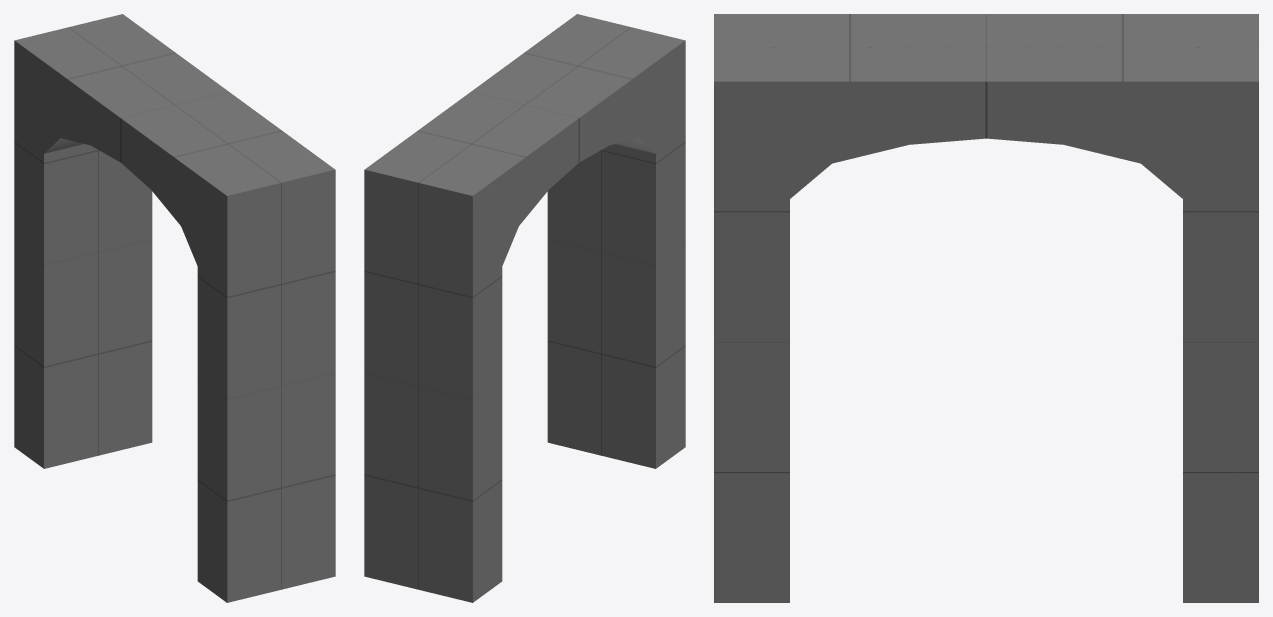
Rendered from DoorEnter.fbx.
The picture shows the model from 3 angles, left to right: view 1: azimuth 30°, elevation 25°; view 2: azimuth 150°, elevation 25°; view 3: azimuth 270°, elevation 25°; orthographic projection. The views are drawn at different scales.
Visible parts, largest first — view 1: DoorEnter; view 2: DoorEnter; view 3: DoorEnter.
Part boxes in pixels (bbox=[...]): DoorEnter: bbox=[14, 14, 335, 602]; DoorEnter: bbox=[364, 14, 685, 602]; DoorEnter: bbox=[714, 14, 1258, 602].
Bounding box in the file's own units: 1.51 × 5.4 × 5.12.
